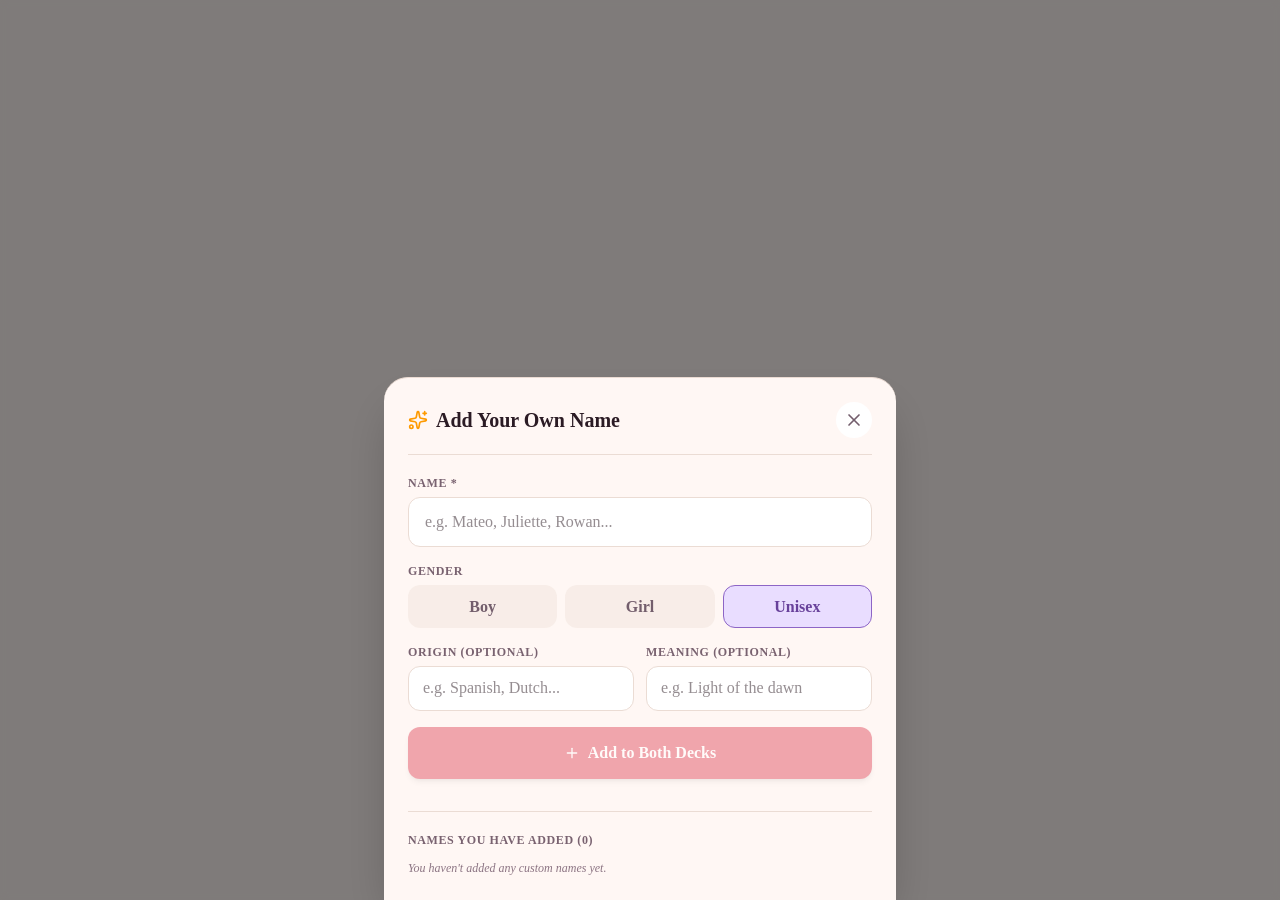
Test: AddNameSheet › shows a duplicate-name conflict to the user
Type "Mateo" into the field with placeholder "e.g. Mateo, Juliette, Rowan..." at (640, 522), box [408,497,872,547]
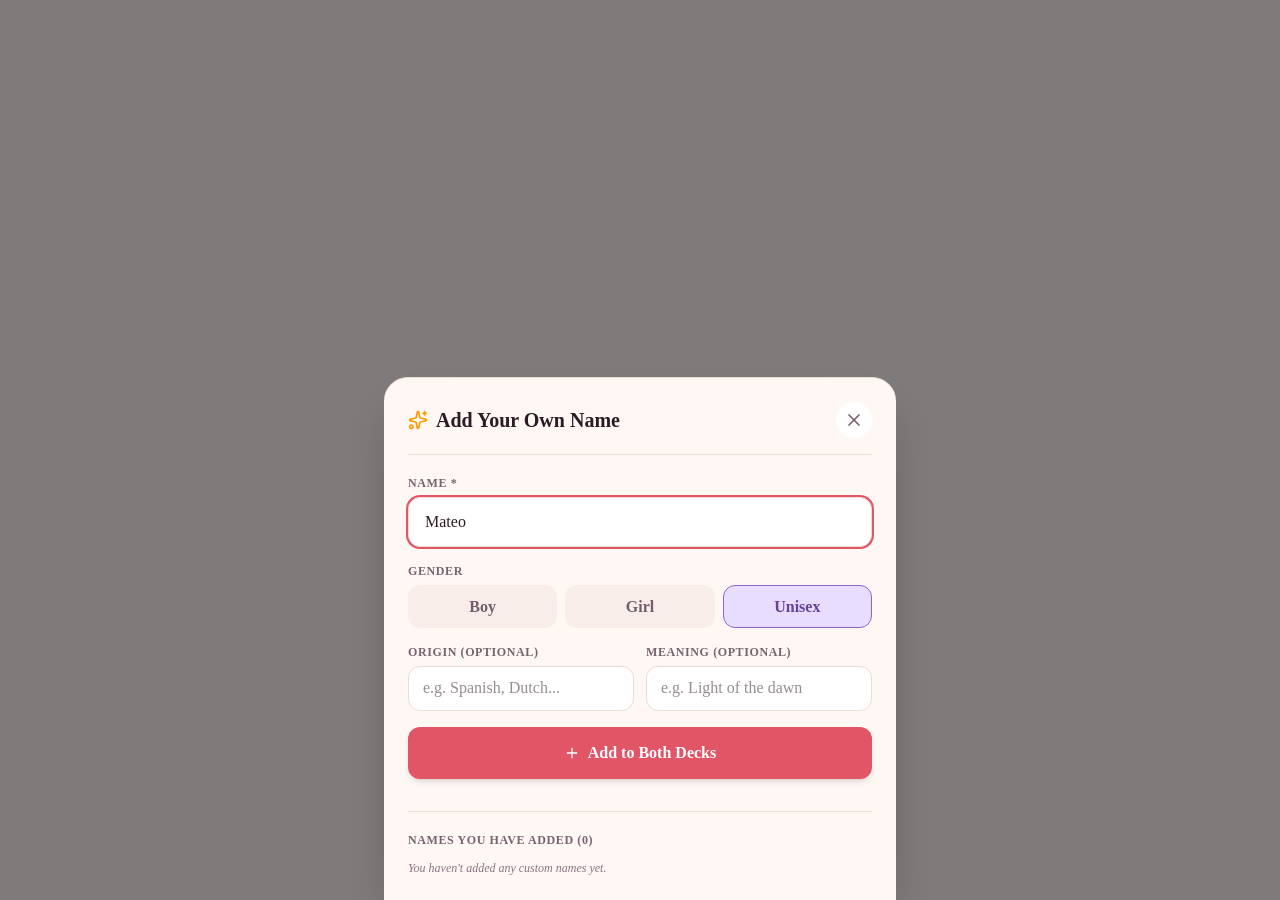
Click the button "Add to Both Decks" at (640, 753), box [408,727,872,779]
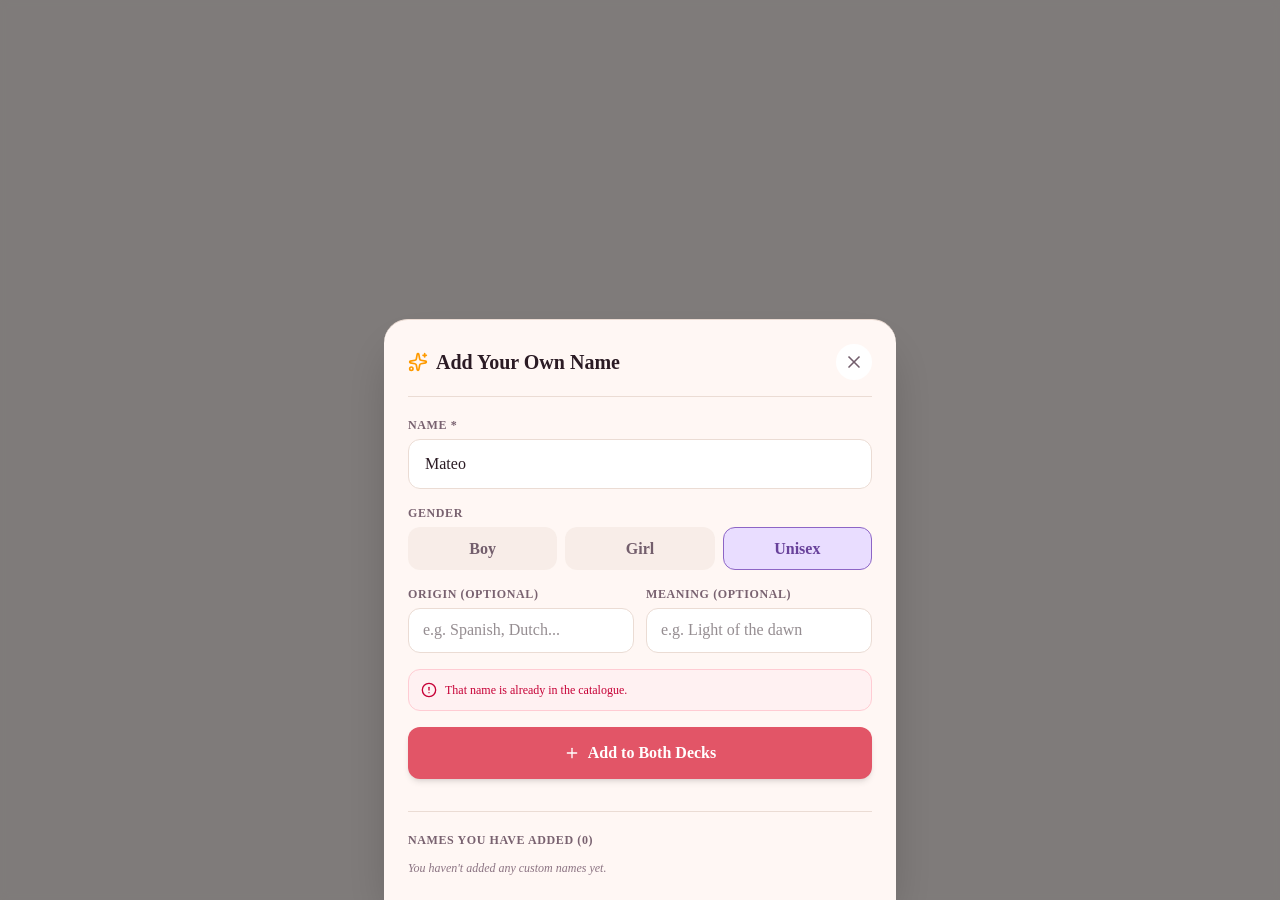
Expected: the text "That name is already in the catalogue." is shown, [445,682,627,698]
